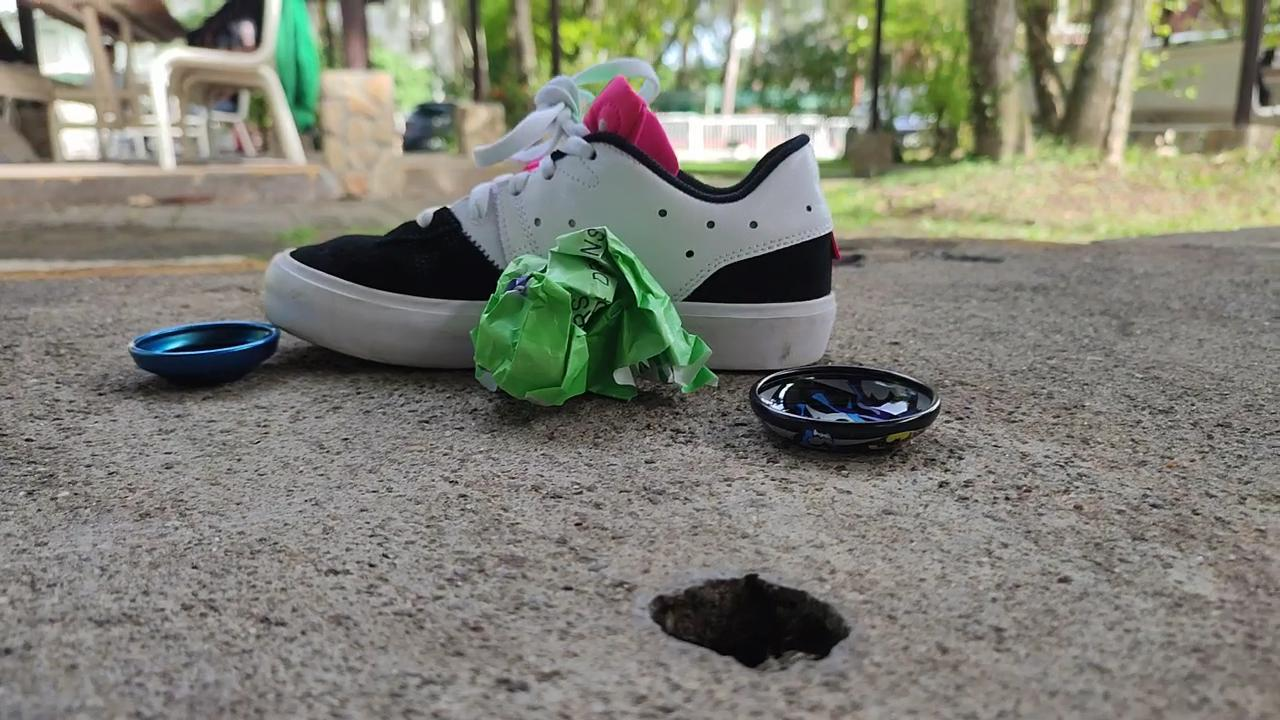Paper: (463, 214, 728, 420)
